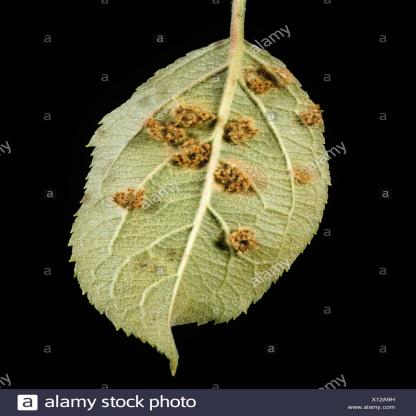apple rust leaf: (65, 46, 347, 371)
